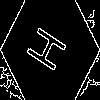H: (25, 25, 75, 79)
